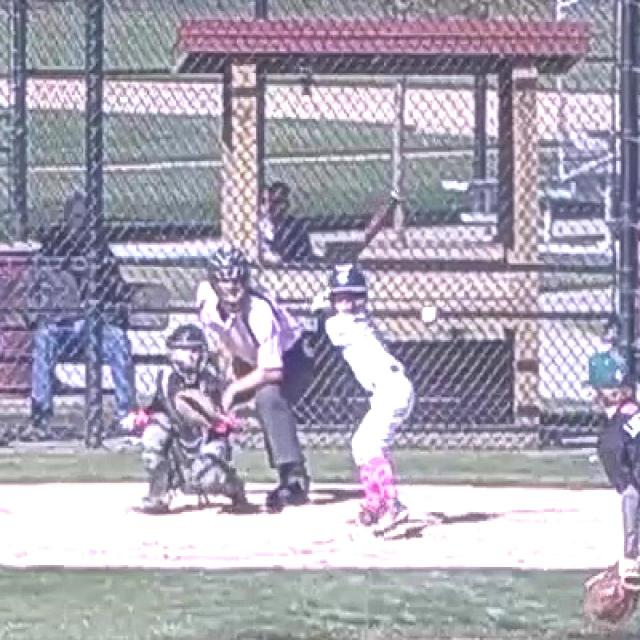baseball: (343, 302, 422, 316)
